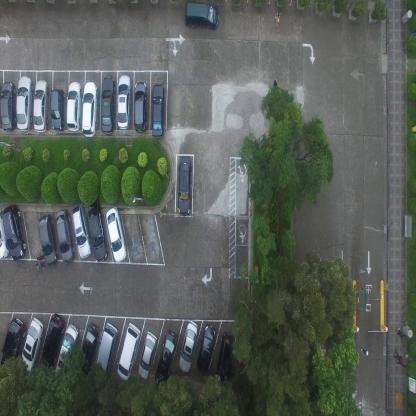car: (116, 320, 141, 381), (0, 316, 26, 373), (2, 204, 27, 262), (154, 330, 178, 390), (55, 321, 80, 378), (104, 206, 128, 264), (20, 316, 44, 374), (86, 200, 108, 262), (94, 322, 118, 378), (41, 312, 64, 370), (177, 319, 199, 373), (78, 322, 100, 375), (71, 204, 91, 259), (54, 208, 74, 263), (38, 214, 59, 266), (195, 323, 216, 375), (184, 0, 218, 32), (215, 331, 235, 384), (81, 80, 99, 137), (138, 331, 158, 382), (32, 77, 49, 134), (116, 72, 132, 130), (16, 74, 32, 132), (151, 82, 166, 140), (178, 154, 192, 216), (101, 74, 115, 135), (66, 80, 82, 132), (0, 81, 16, 132), (133, 80, 147, 133), (50, 87, 65, 131), (0, 208, 10, 261)
